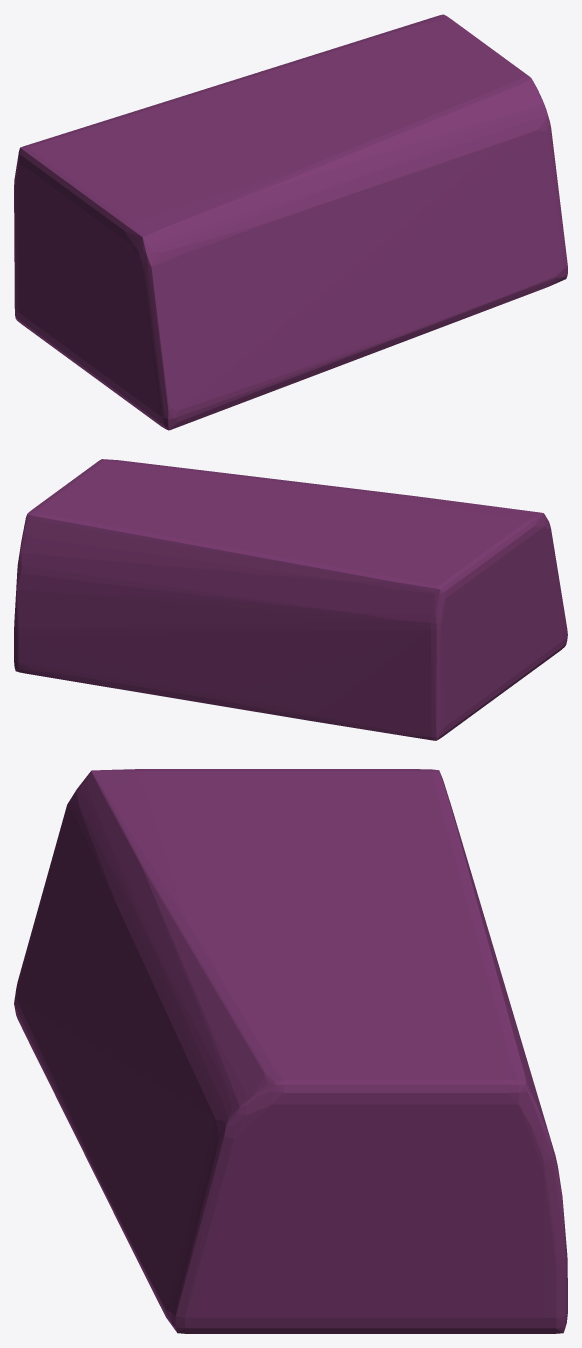
Rendered from left-elbow-0_part_28.obj.
The picture shows the model from 3 angles, top to bottom: view 1: azimuth 30°, elevation 25°; view 2: azimuth 150°, elevation 25°; view 3: azimuth 270°, elevation 25°; orthographic projection. The views are drawn at different scales.
Size of the model in its own units: 0.0556 by 0.0204 by 0.0407.
